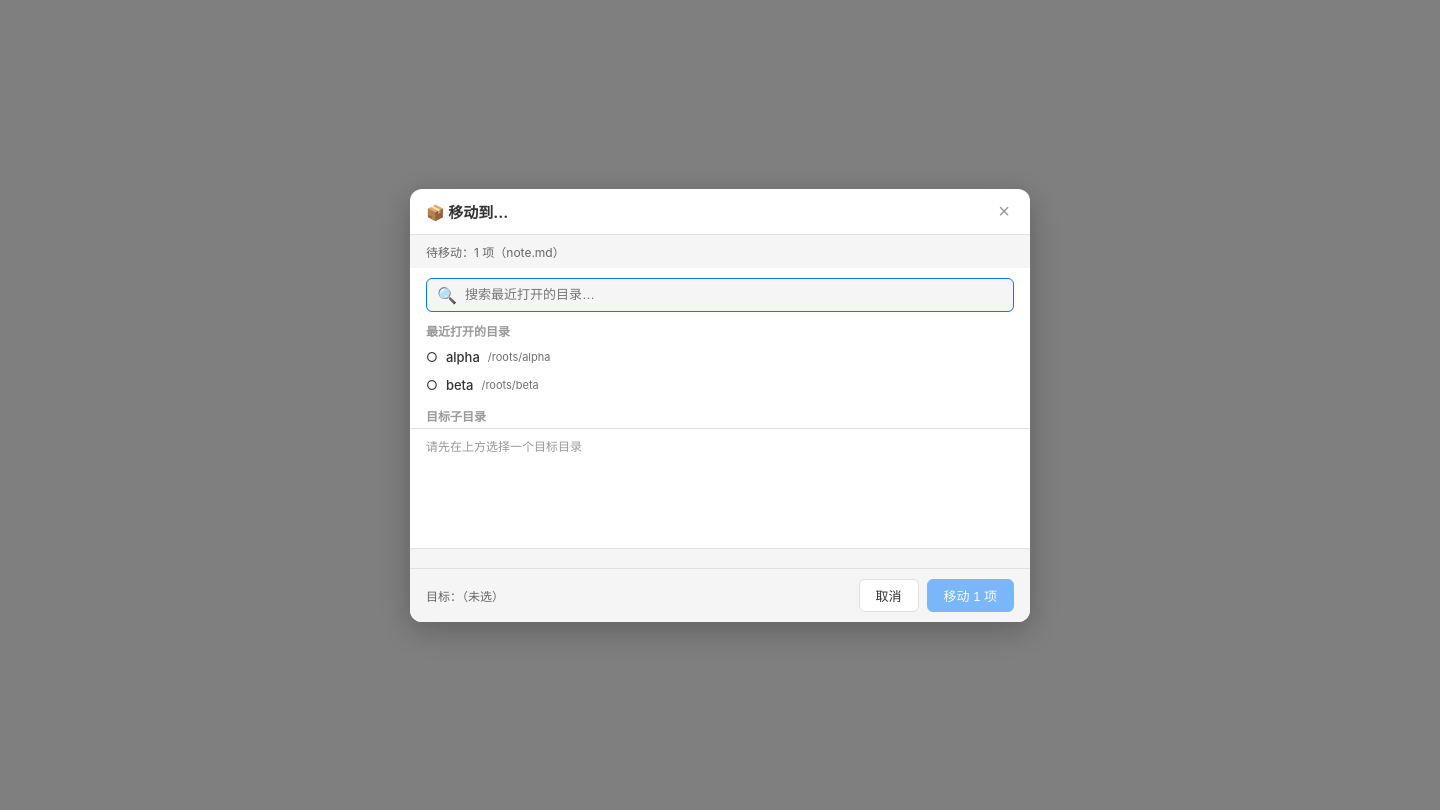
Test: MoveToDialog › 按目录名称即时过滤最近打开的目录
The width and height of the screenshot is (1440, 810).
Expected: the text "alpha" is shown, [446,348,480,364]
In the field named "搜索移动目标目录": (734, 294) [465,287,1003,302], type "beta"
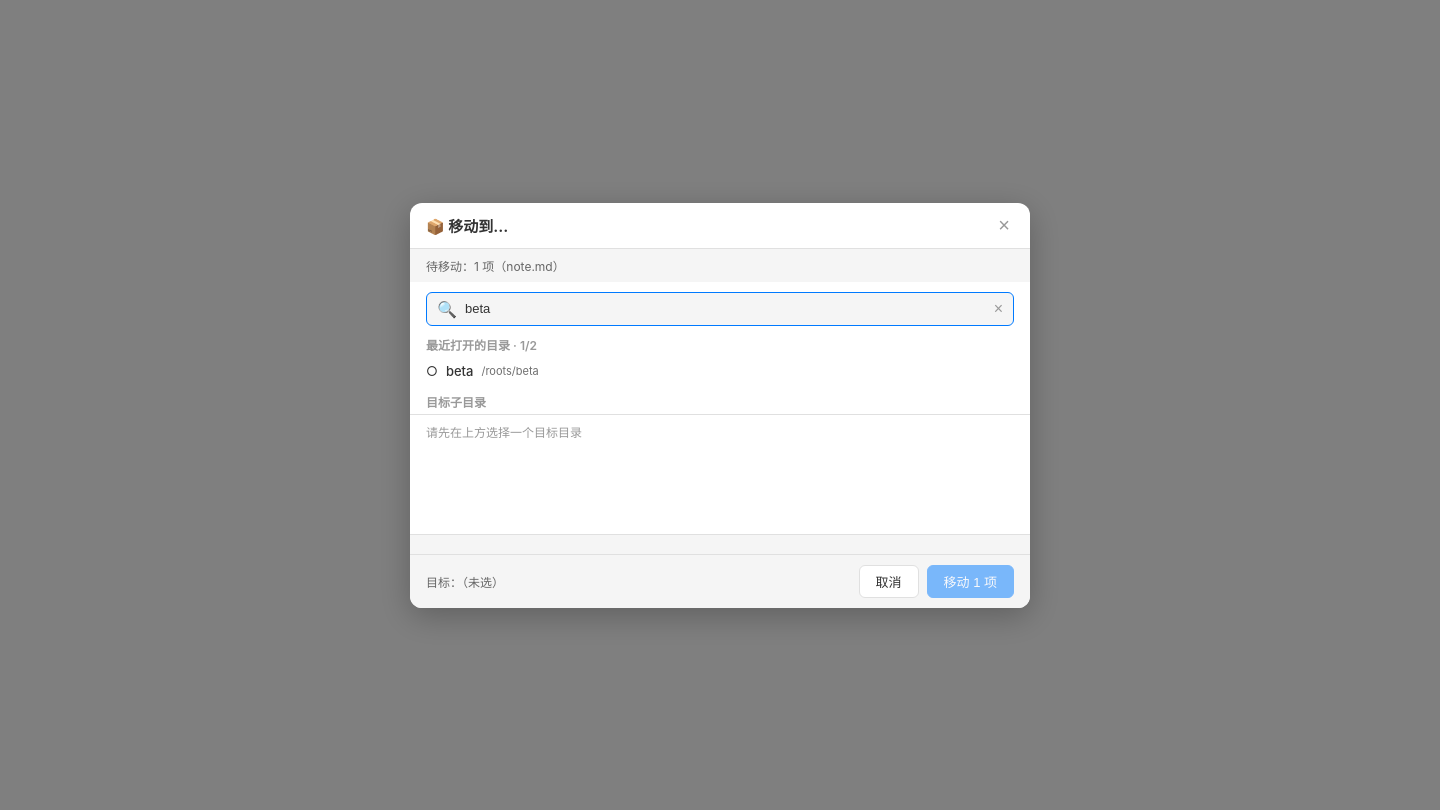
Expected: the text "beta" is shown, [446,362,473,378]
Expected: the text "alpha" is gone
Expected: the text "最近打开的目录 · 1/2" is shown, [426,338,537,352]
